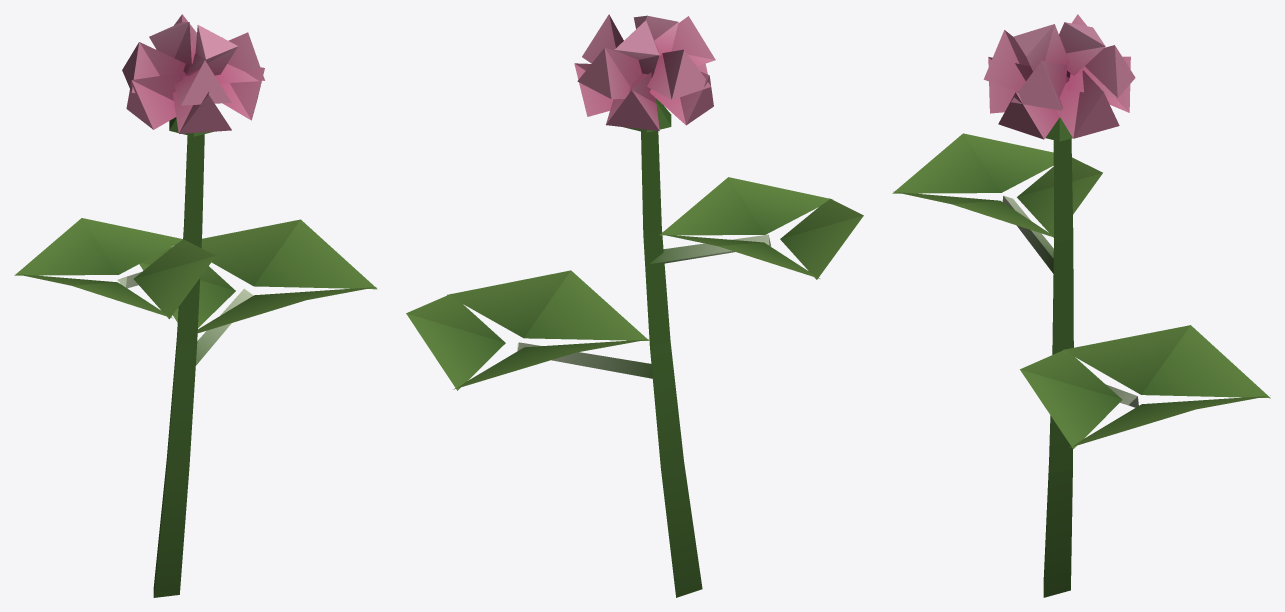
Rendered from flower-clover.glb.
3 views of the same model, side by side, from view 1: azimuth 30°, elevation 25°; view 2: azimuth 150°, elevation 25°; view 3: azimuth 270°, elevation 25° (orthographic). The views are drawn at different scales.
Parts seen in each view (by area): view 1: clover; view 2: clover; view 3: clover.
Part boxes in pixels (x1,y1,x2,y2): clover: (14, 14, 377, 597); clover: (406, 14, 863, 597); clover: (892, 14, 1270, 597).
Size of the model in its own units: 2.67 by 3.9 by 2.29.
